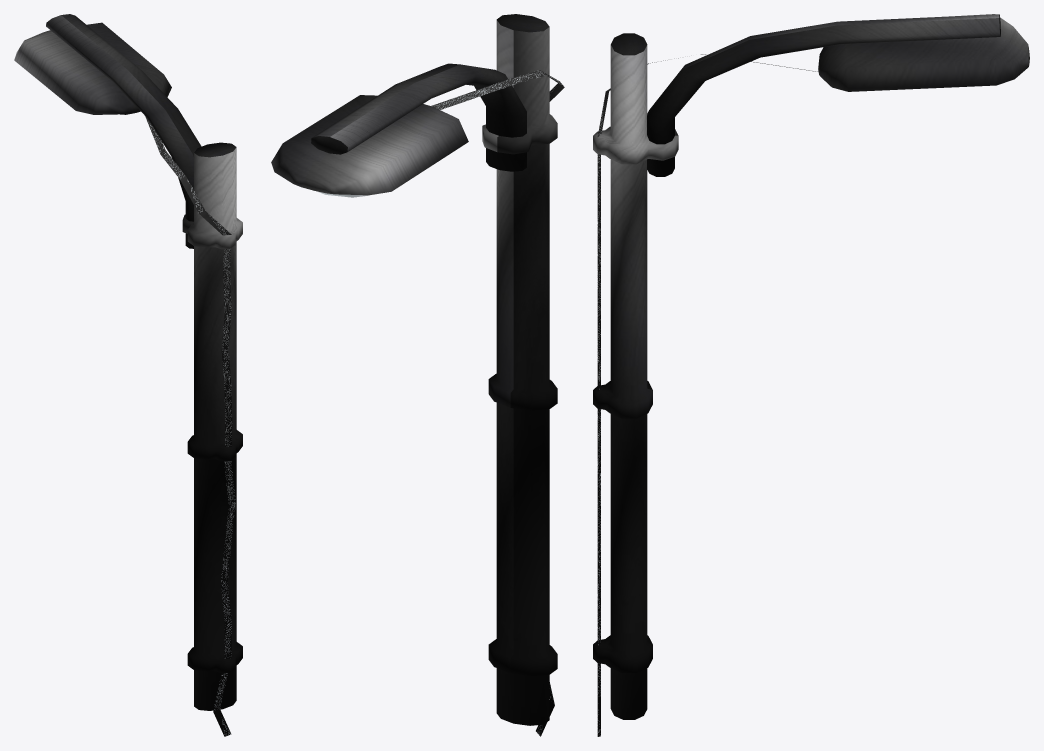
File: poste_luz.obj
3 renders of one model, left to right at view 1: azimuth 30°, elevation 25°; view 2: azimuth 150°, elevation 25°; view 3: azimuth 270°, elevation 25°, orthographic. The views are drawn at different scales.
Parts seen in each view (by area): view 1: Cylinder_Cylinder.001, Cylinder_Cylinder.003, Cylinder_Cylinder.002, Cylinder_Cylinder.004; view 2: Cylinder_Cylinder.001, Cylinder_Cylinder.003, Cylinder_Cylinder.002; view 3: Cylinder_Cylinder.001, Cylinder_Cylinder.003, Cylinder_Cylinder.002.
Part boxes in pixels (x1,y1,x2,y2): Cylinder_Cylinder.001: (182,142,242,710); Cylinder_Cylinder.003: (14,22,235,736); Cylinder_Cylinder.002: (46,14,201,248); Cylinder_Cylinder.004: (145,116,235,735); Cylinder_Cylinder.001: (482,14,557,725); Cylinder_Cylinder.003: (271,70,564,736); Cylinder_Cylinder.002: (311,63,526,171); Cylinder_Cylinder.001: (593,33,678,719); Cylinder_Cylinder.003: (597,14,1029,736); Cylinder_Cylinder.002: (647,14,1000,176).
Size of the model in its own units: 1.45 by 8.67 by 4.77.
